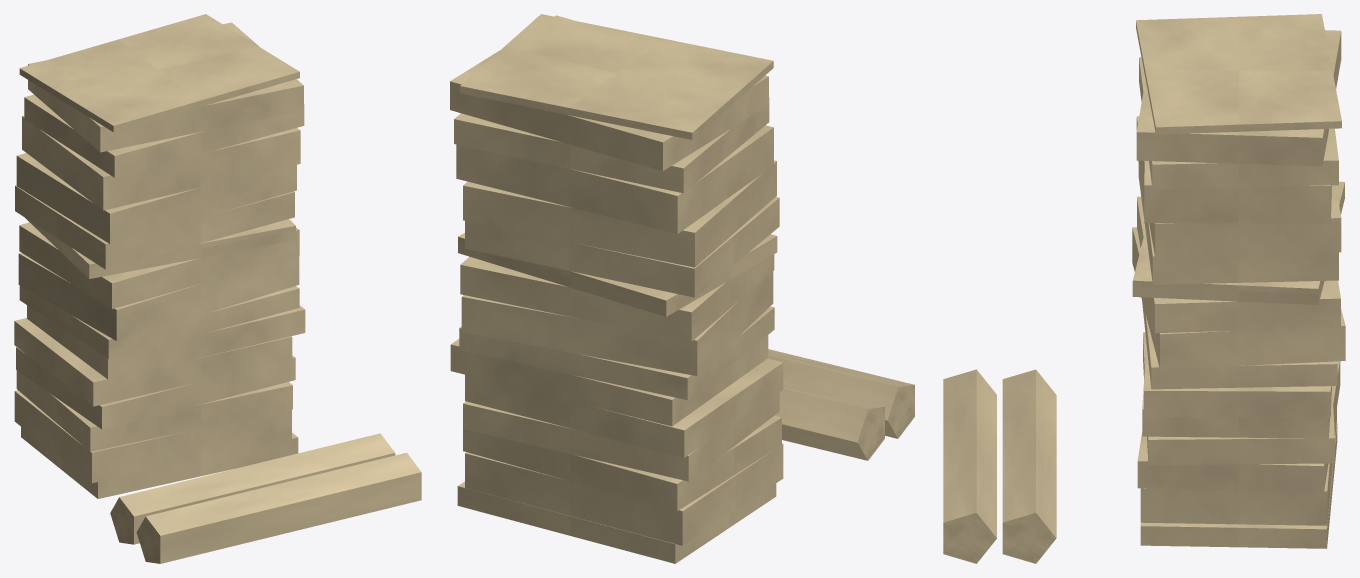
Rendered from Paper_Stack_2_LOD1.gltf.
3 views of the same model, side by side, from view 1: azimuth 30°, elevation 25°; view 2: azimuth 150°, elevation 25°; view 3: azimuth 270°, elevation 25° (orthographic). The views are drawn at different scales.
Visible parts, largest first — view 1: Paper_Stack_2_LOD1; view 2: Paper_Stack_2_LOD1; view 3: Paper_Stack_2_LOD1.
Boxes of the visible parts, box(x1,y1,x2,y2) form: Paper_Stack_2_LOD1: box(14, 14, 421, 563); Paper_Stack_2_LOD1: box(450, 14, 914, 563); Paper_Stack_2_LOD1: box(943, 14, 1345, 563).
Size of the model in its own units: 0.4 by 0.55 by 0.474.
1 material, 1 textured.
